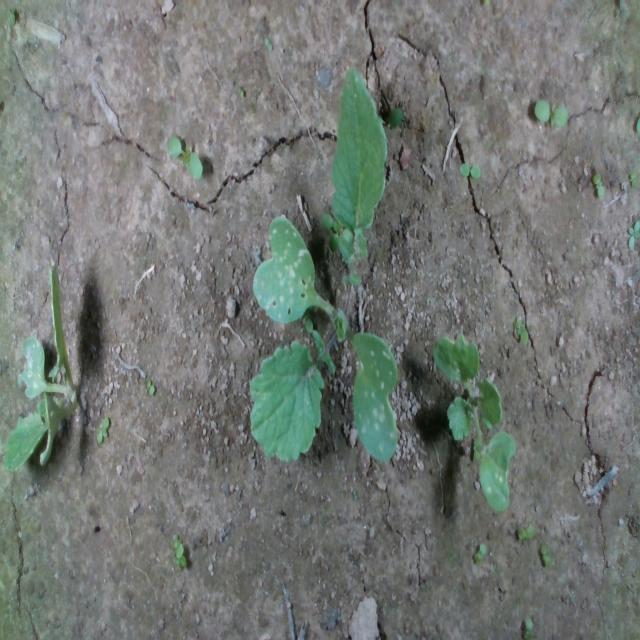weed: (167, 135, 203, 181), (532, 96, 568, 128), (513, 315, 529, 345), (459, 161, 481, 179), (591, 171, 605, 198), (96, 415, 109, 444), (516, 522, 534, 540), (539, 541, 551, 567), (473, 541, 486, 563), (262, 34, 272, 52), (144, 377, 154, 395), (629, 170, 637, 188)
